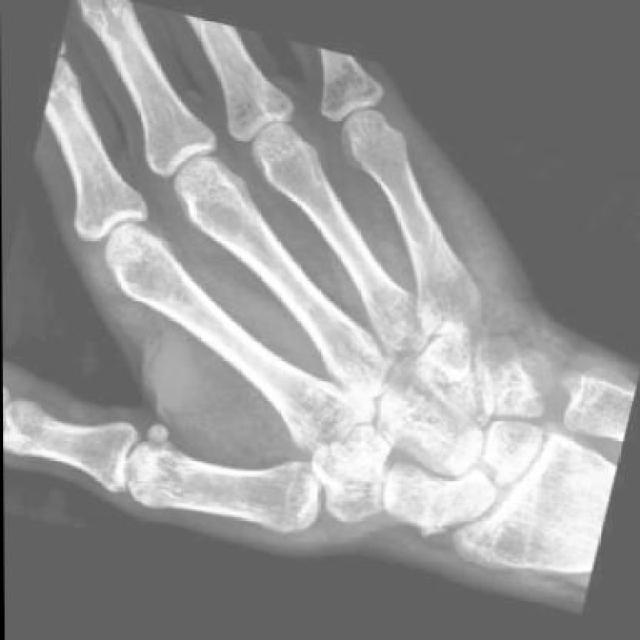Fracture: (405, 469, 455, 537)
